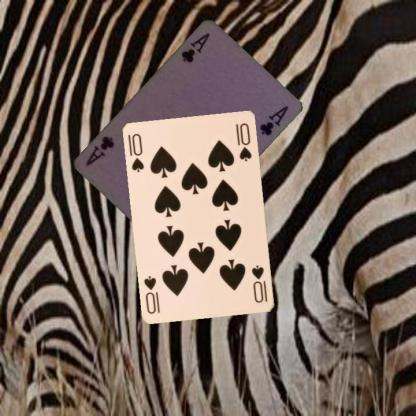10s: (249, 262, 269, 304), (128, 131, 146, 174)
Ac: (176, 30, 212, 64)
